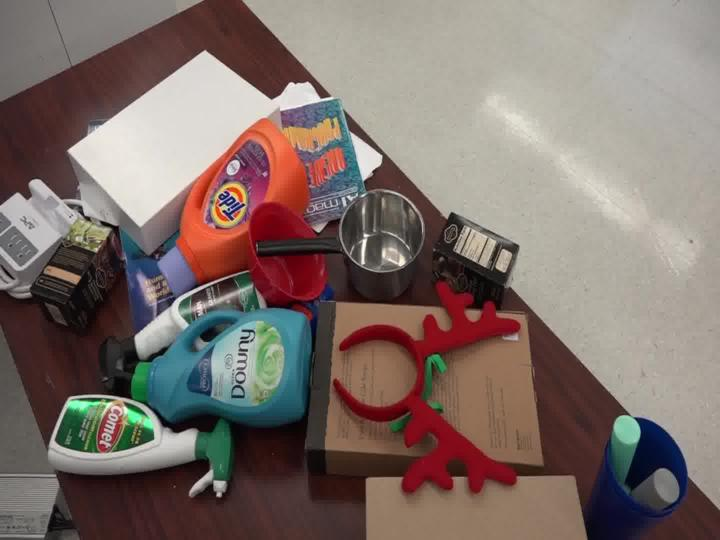tide: (145, 107, 320, 285)
